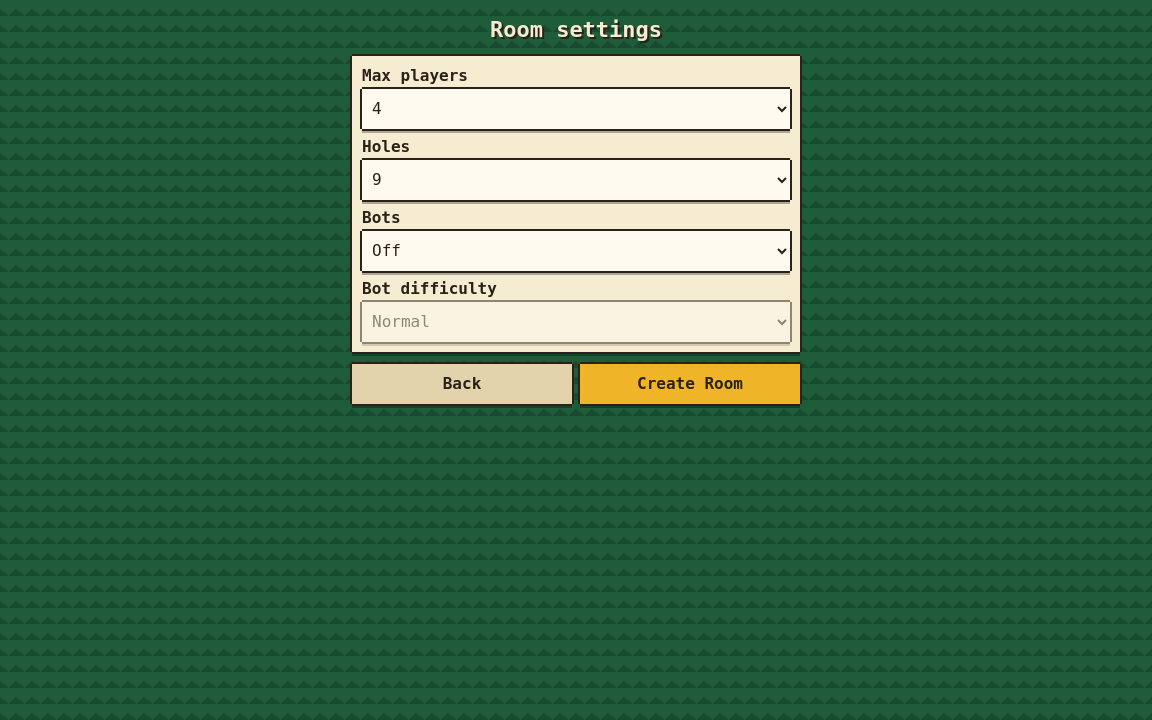
Test: room settings › stays here with a message when the room cannot be created
Click the button "Create Room". click: (690, 384)
box: [580, 364, 800, 404]
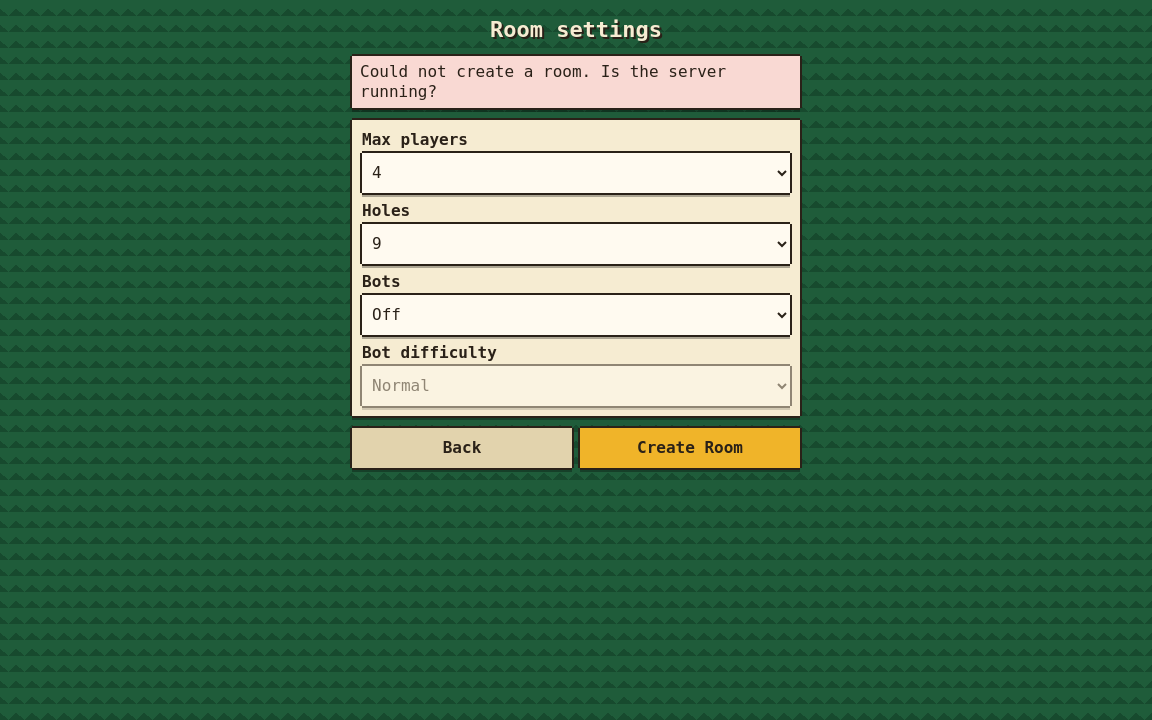
Expected: the heading "Room settings" is shown, [490, 16, 662, 44]
Expected: the message shows "server", [360, 62, 726, 100]
